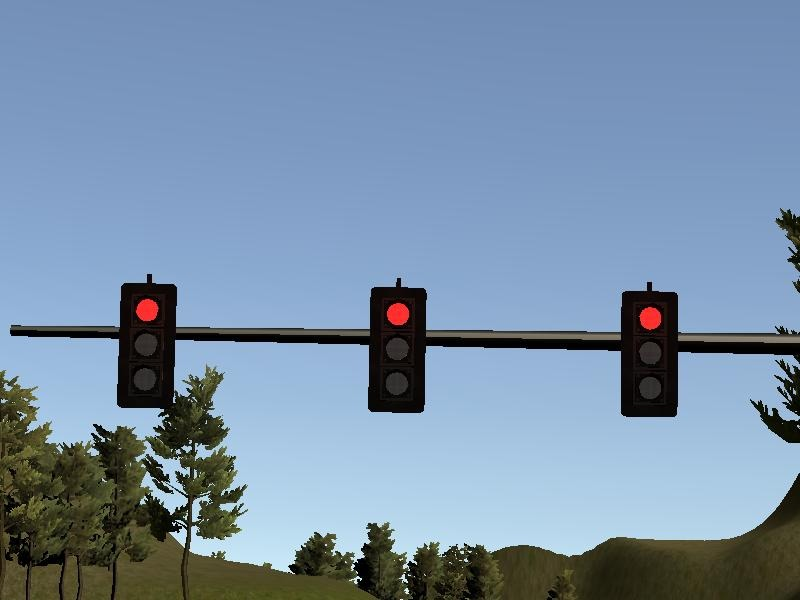red: (366, 287, 429, 413), (621, 290, 681, 416), (117, 284, 177, 407)
